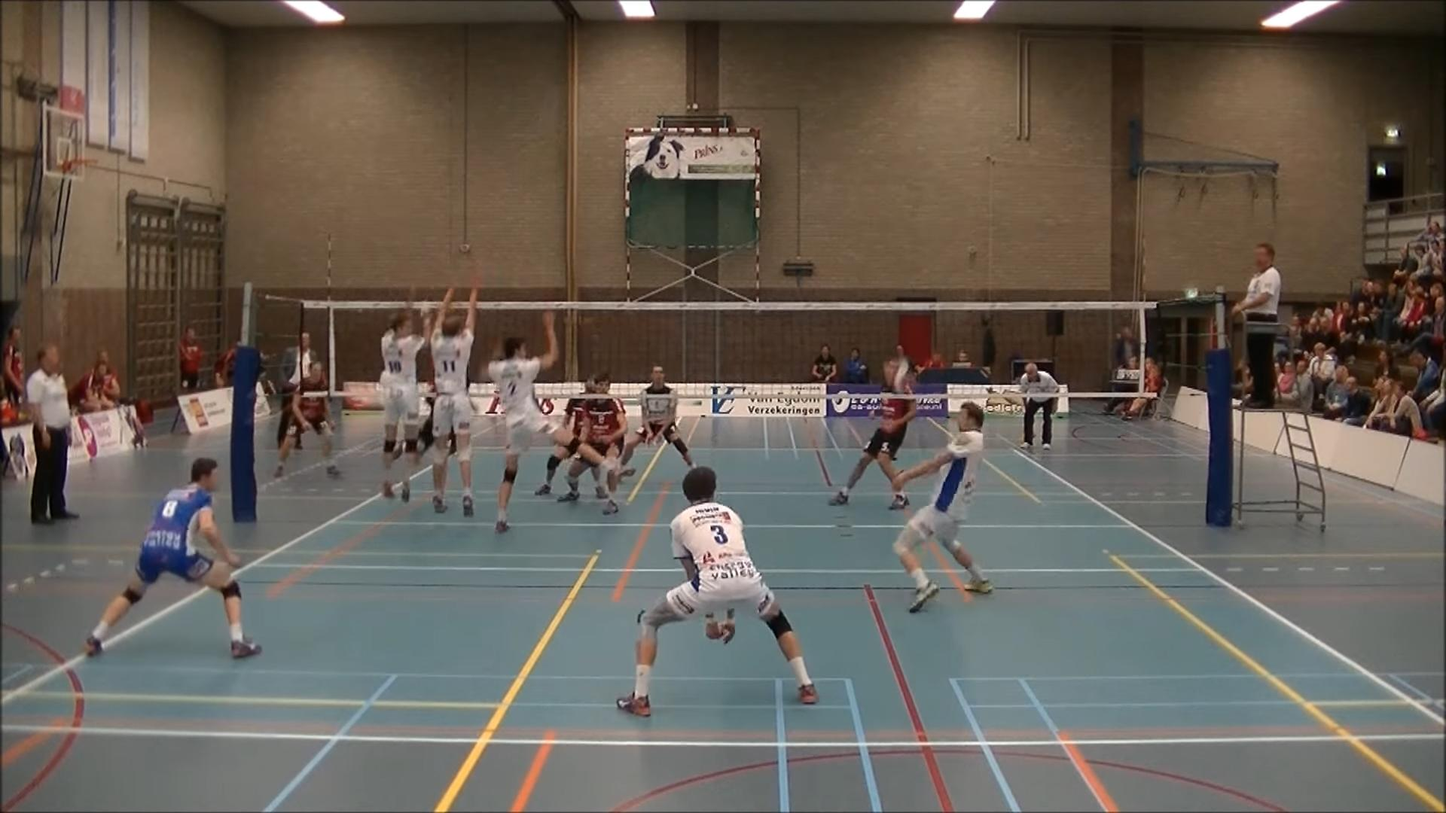Block: (429, 276, 481, 516), (379, 285, 430, 504)
Dig: (873, 402, 995, 616)
Player: (617, 467, 817, 717), (85, 458, 261, 658), (488, 312, 617, 531), (466, 313, 571, 541), (829, 359, 916, 505), (620, 364, 694, 476), (580, 374, 627, 460), (418, 397, 456, 456), (563, 379, 596, 437)
